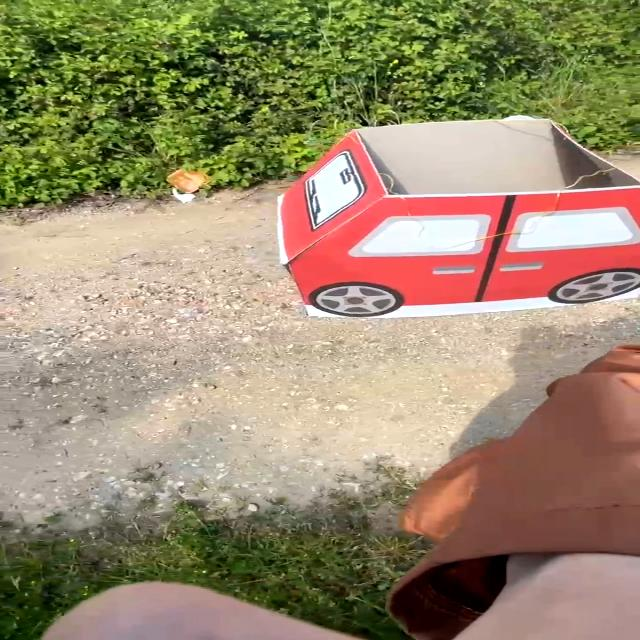red_car: (226, 92, 640, 307)
